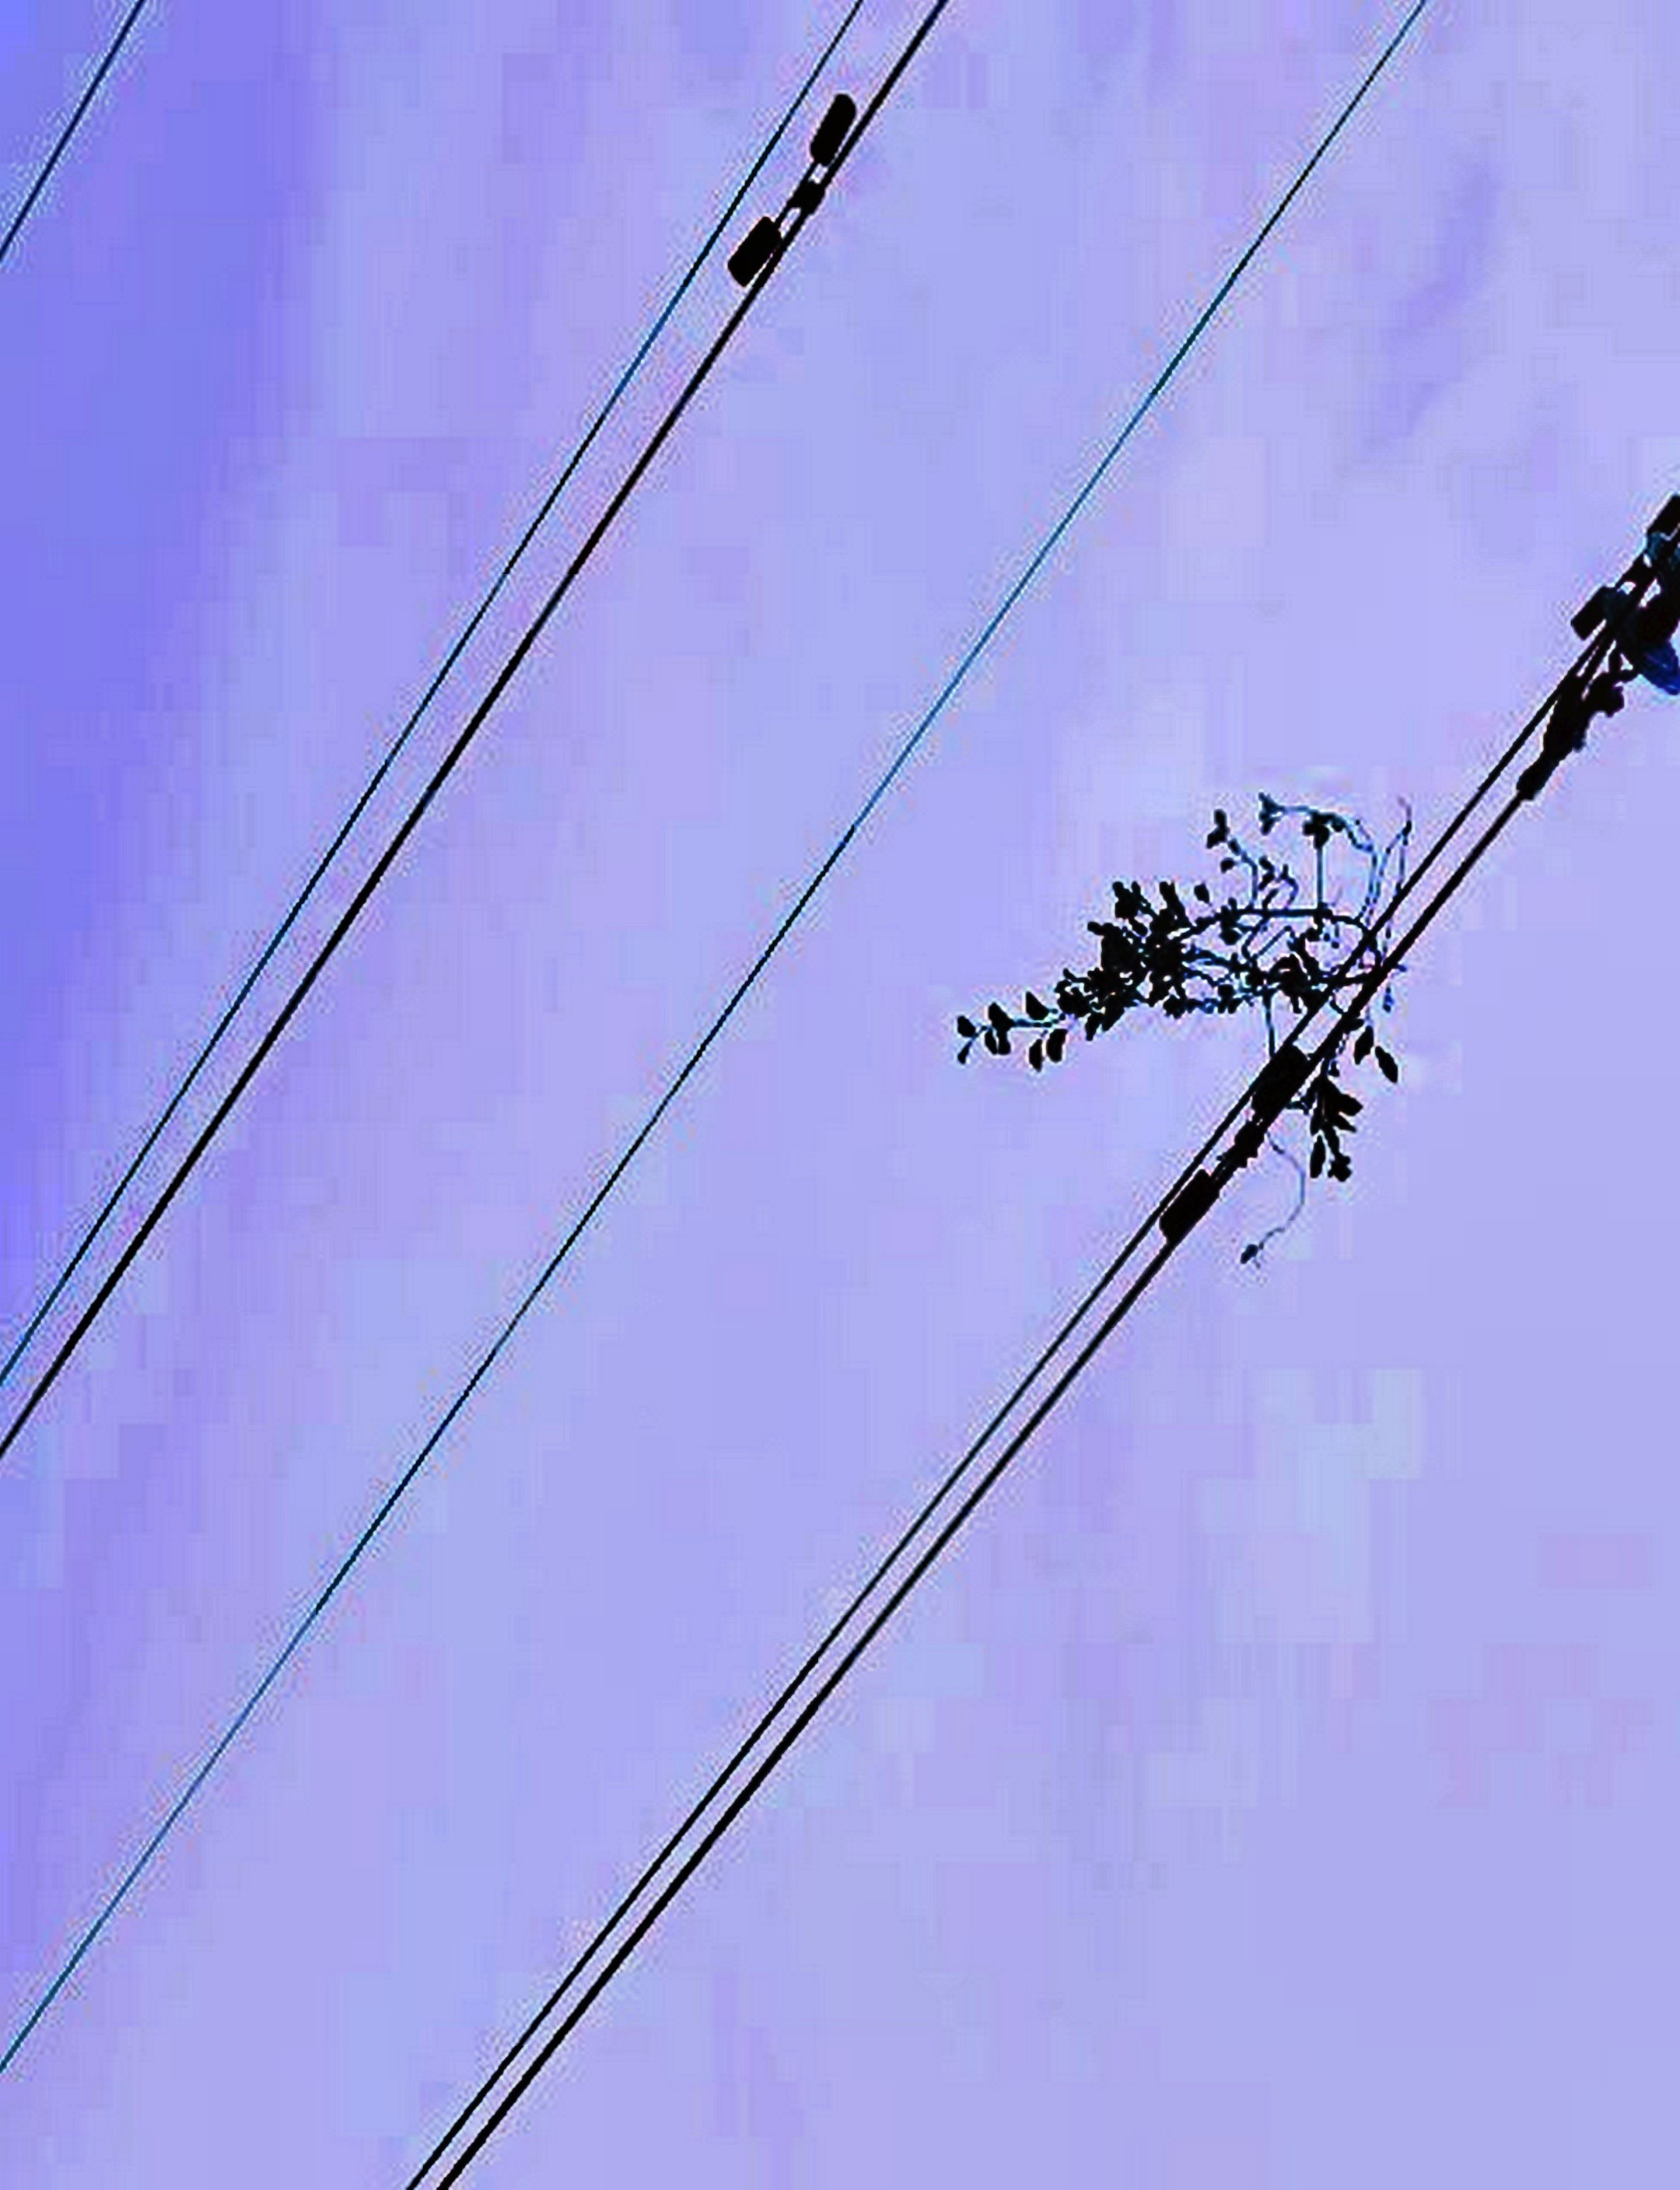wire foreign body: (889, 734, 1502, 1279)
